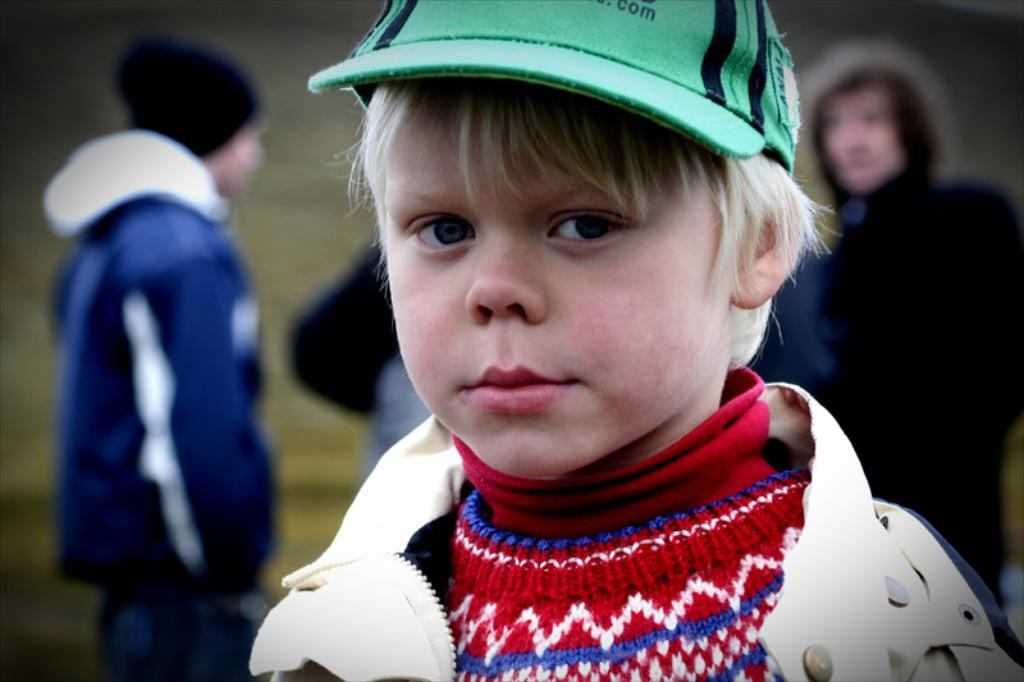Hat: (308, 0, 793, 174)
